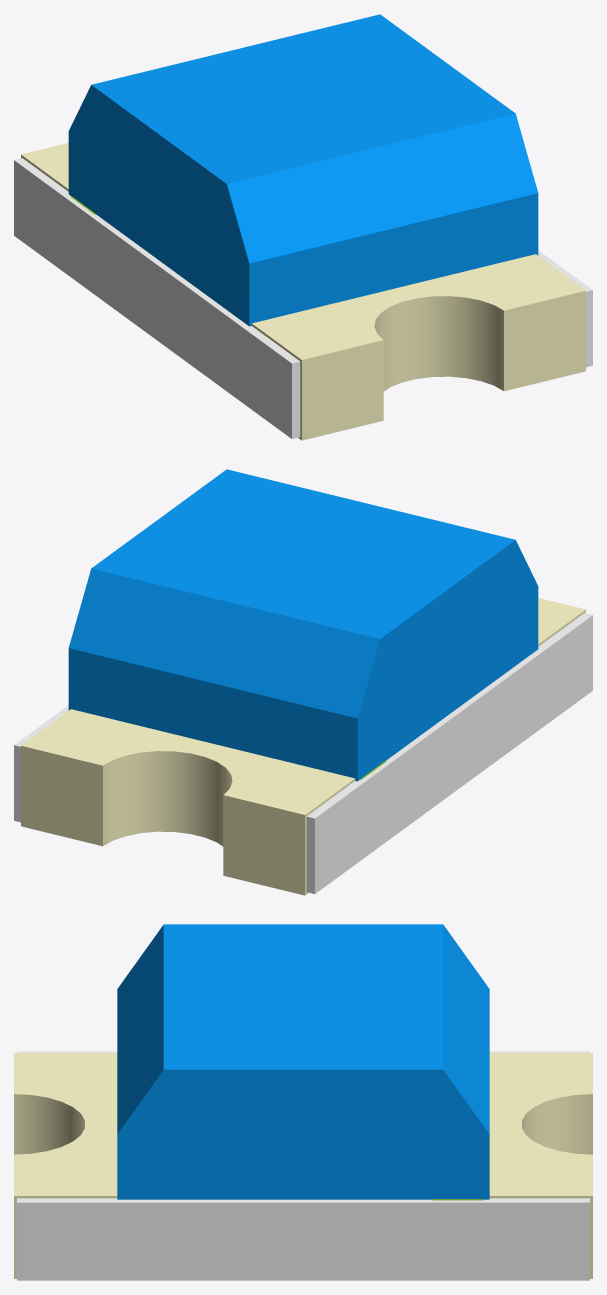
Rendered from LED0805-BLUE.glb.
3 renders of one model, top to bottom at view 1: azimuth 30°, elevation 25°; view 2: azimuth 150°, elevation 25°; view 3: azimuth 270°, elevation 25°, orthographic. The views are drawn at different scales.
Visible parts, largest first — view 1: Glass, Pads, Body; view 2: Glass, Pads, Body; view 3: Glass, Body, Pads.
Boxes of the visible parts, x1,y1,x2,y2 form: Glass: (68, 14, 538, 326); Pads: (21, 143, 585, 440); Body: (14, 158, 592, 438); Glass: (68, 469, 538, 781); Pads: (21, 598, 585, 895); Body: (14, 613, 592, 893); Glass: (117, 924, 489, 1199); Body: (17, 1051, 589, 1280); Pads: (14, 1053, 592, 1278).
Bounding box in the file's own units: 0.00125 × 0.00081 × 0.00202.
